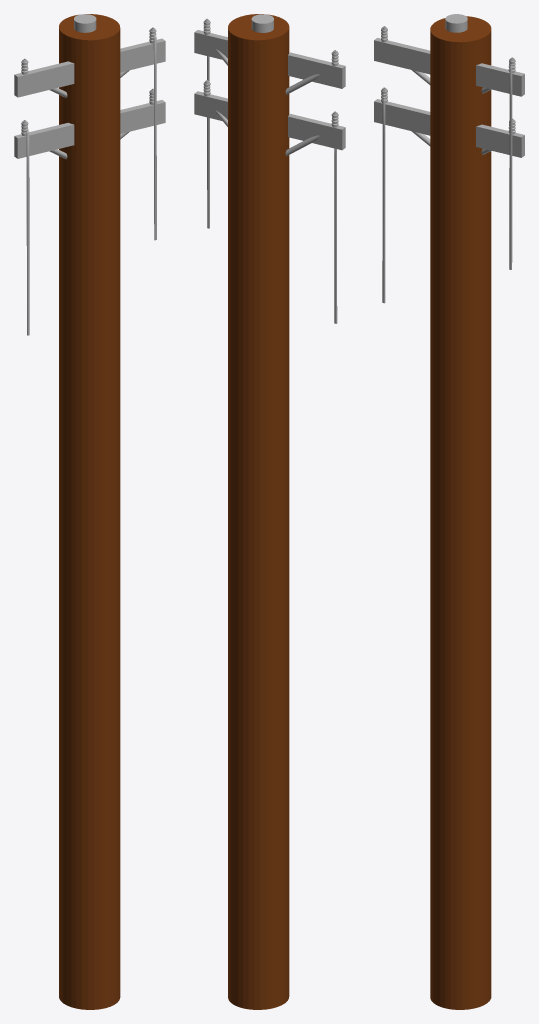
The model's file is pole2.dae.
3 views of the same model, side by side, from view 1: azimuth 30°, elevation 25°; view 2: azimuth 150°, elevation 25°; view 3: azimuth 330°, elevation 25° (orthographic).
Parts seen in each view (by area): view 1: Cylinder, Box001, Box002, Loft001, Loft002, Cylinder001; view 2: Cylinder, Box002, Box001, Loft001, Loft002, Cylinder001; view 3: Cylinder, Box001, Box002, Loft001, Loft002, Cylinder001.
Part boxes in pixels (x1=…): Cylinder: x1=59, y1=14, x2=120, y2=1009; Box001: x1=14, y1=38, x2=165, y2=97; Box002: x1=14, y1=100, x2=165, y2=158; Loft001: x1=26, y1=130, x2=29, y2=335; Loft002: x1=153, y1=35, x2=156, y2=240; Cylinder001: x1=74, y1=14, x2=96, y2=32; Cylinder: x1=228, y1=14, x2=289, y2=1009; Box002: x1=194, y1=91, x2=345, y2=150; Box001: x1=194, y1=30, x2=345, y2=88; Loft001: x1=334, y1=148, x2=337, y2=323; Loft002: x1=207, y1=56, x2=209, y2=228; Cylinder001: x1=251, y1=14, x2=273, y2=32; Cylinder: x1=430, y1=16, x2=491, y2=1009; Box001: x1=374, y1=38, x2=524, y2=96; Box002: x1=374, y1=99, x2=524, y2=157; Loft001: x1=382, y1=98, x2=385, y2=303; Loft002: x1=509, y1=65, x2=512, y2=269; Cylinder001: x1=445, y1=14, x2=467, y2=32.
Bounding box in the file's own units: 0.762 × 0.2798 × 4.82.
